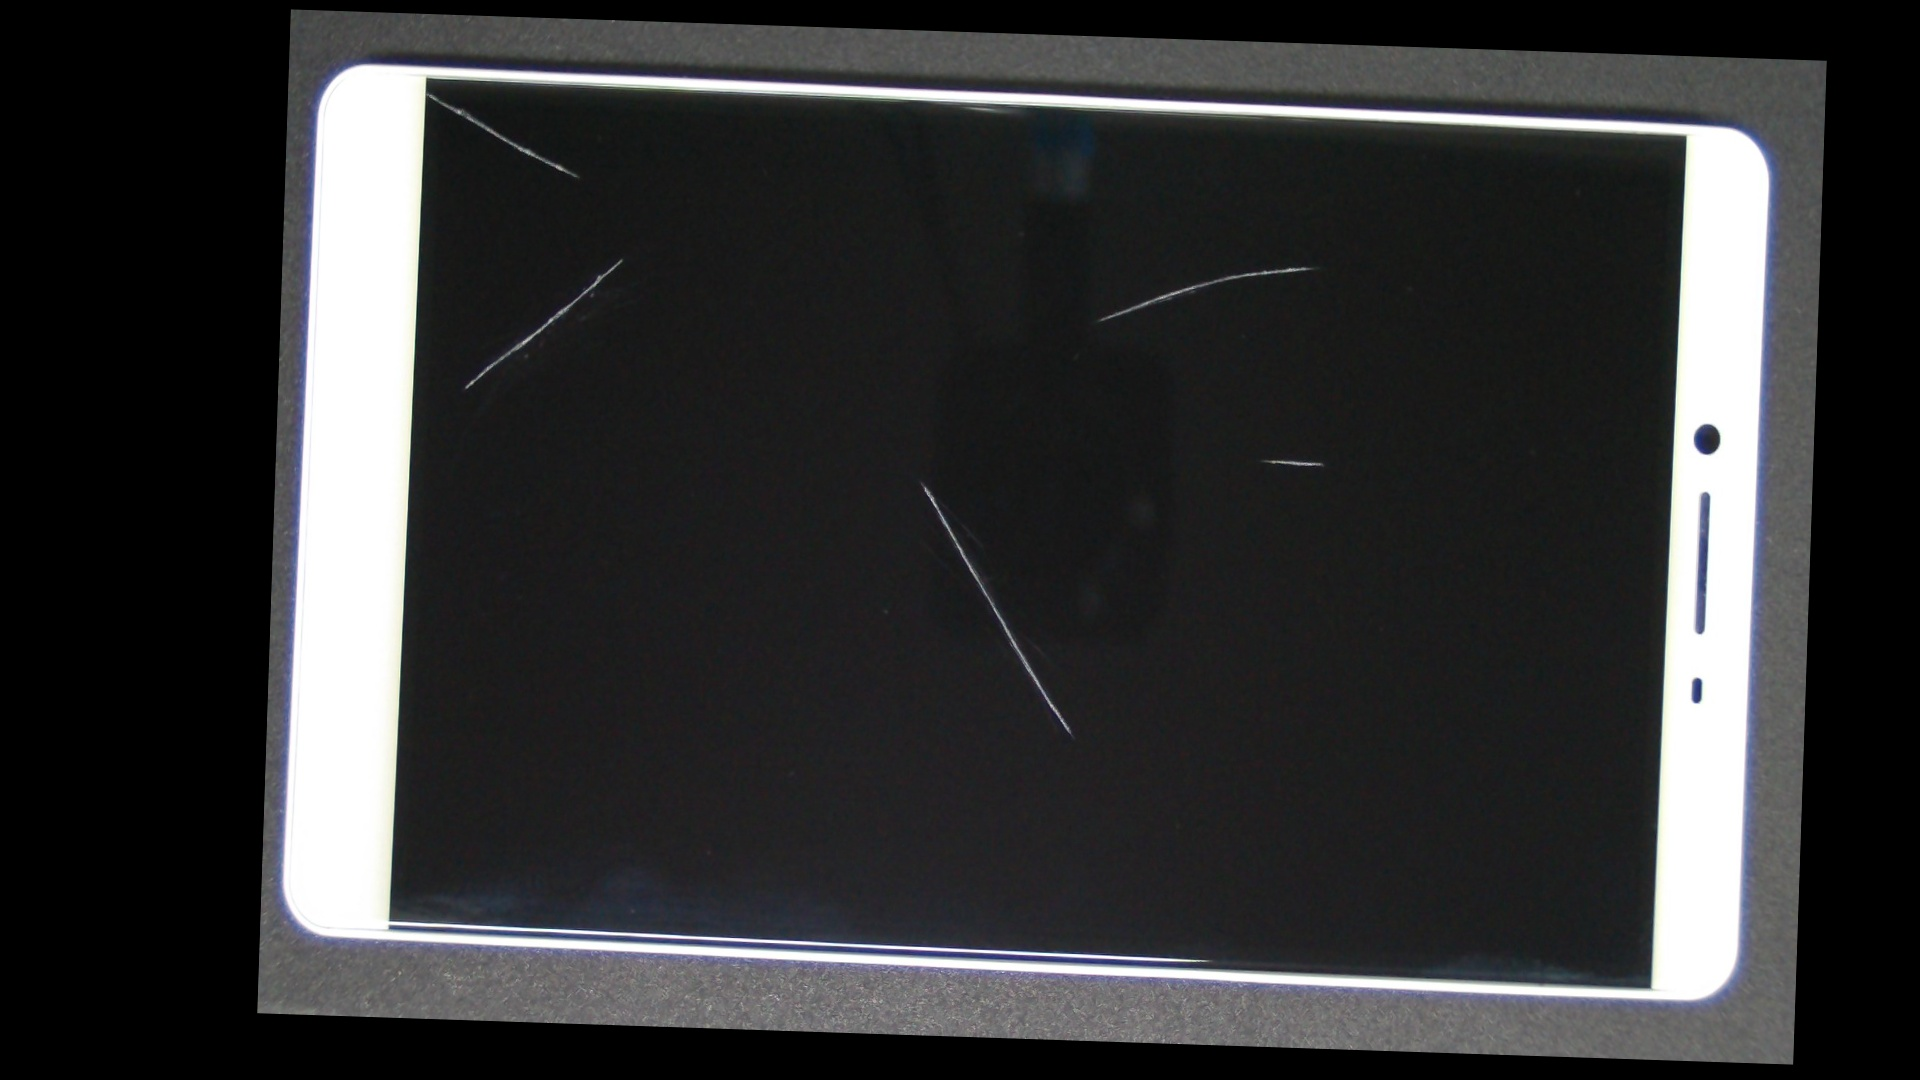oil: (775, 233, 1800, 684), (592, 244, 1251, 716), (790, 137, 1818, 394), (448, 133, 794, 382), (356, 50, 498, 136)
